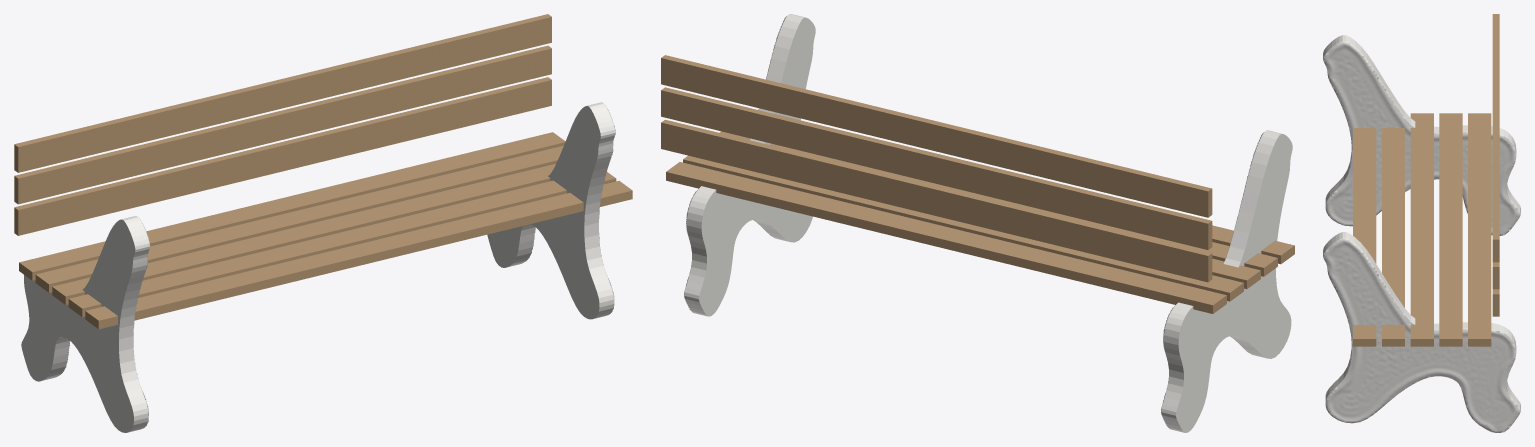
File: terilgan.glb
The picture shows the model from 3 angles, left to right: view 1: azimuth 30°, elevation 25°; view 2: azimuth 150°, elevation 25°; view 3: azimuth 270°, elevation 25°; orthographic projection. The views are drawn at different scales.
Parts seen in each view (by area): view 1: Orqa1, Orqa2, Orqa0, t-1, Sed0, t1, Sed4, Sed3, Sed1, Sed2; view 2: Orqa2, Orqa1, Orqa0, t-1, Sed4, t1, Sed3, Sed1, Sed0, Sed2; view 3: t1, t-1, Sed3, Sed4, Sed2, Sed1, Sed0, Orqa2, Orqa0, Orqa1.
Part boxes in pixels (left/top/right/bottom): Orqa1: left=14, top=45, right=551, bottom=204; Orqa2: left=14, top=14, right=551, bottom=172; Orqa0: left=14, top=77, right=551, bottom=235; t-1: left=21, top=216, right=150, bottom=432; Sed0: left=85, top=180, right=632, bottom=329; t1: left=487, top=102, right=615, bottom=319; Sed4: left=19, top=132, right=565, bottom=280; Sed3: left=35, top=145, right=563, bottom=292; Sed1: left=68, top=172, right=616, bottom=317; Sed2: left=52, top=164, right=555, bottom=304; Orqa2: left=661, top=55, right=1212, bottom=217; Orqa1: left=661, top=87, right=1212, bottom=249; Orqa0: left=661, top=119, right=1212, bottom=282; t-1: left=1161, top=130, right=1292, bottom=432; Sed4: left=666, top=162, right=1226, bottom=313; t1: left=684, top=14, right=815, bottom=316; Sed3: left=683, top=155, right=1243, bottom=301; Sed1: left=719, top=131, right=1277, bottom=276; Sed0: left=1212, top=225, right=1294, bottom=264; Sed2: left=1212, top=258, right=1260, bottom=288; t1: left=1323, top=232, right=1520, bottom=432; t-1: left=1323, top=35, right=1520, bottom=235; Sed3: left=1439, top=113, right=1462, bottom=346; Sed4: left=1468, top=113, right=1491, bottom=346; Sed2: left=1410, top=113, right=1433, bottom=346; Sed1: left=1382, top=128, right=1404, bottom=346; Sed0: left=1353, top=128, right=1376, bottom=346; Orqa2: left=1492, top=14, right=1499, bottom=262; Orqa0: left=1492, top=289, right=1499, bottom=316; Orqa1: left=1492, top=262, right=1499, bottom=289.
Size of the model in its own units: 1.95 by 0.8368 by 0.7217.
